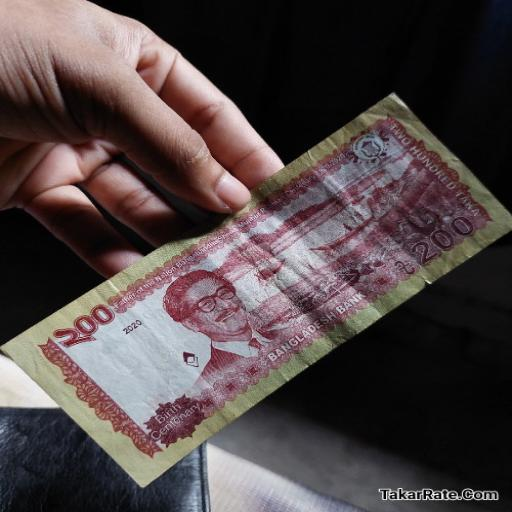200taka: (3, 94, 511, 485)
